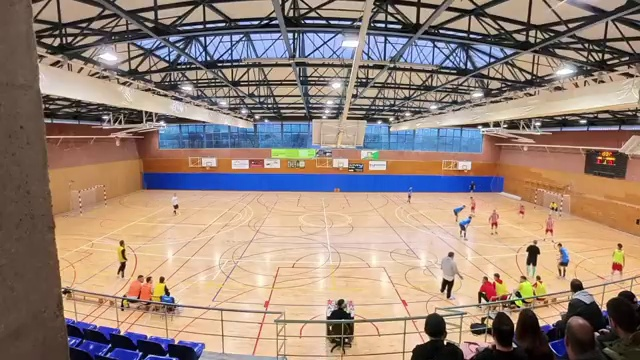players blue shirt: (558, 242, 569, 277), (458, 214, 473, 237), (454, 205, 465, 221), (408, 187, 412, 202)
players red shirt: (491, 211, 498, 233), (545, 215, 551, 236), (470, 196, 476, 213), (518, 206, 524, 216)
